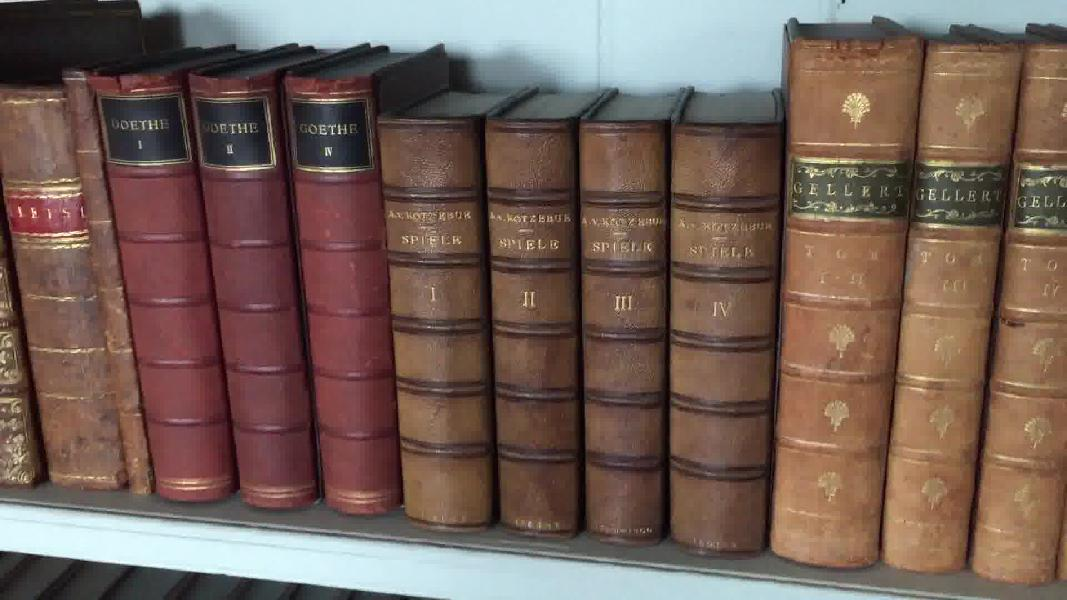Aa6-10: (62, 62, 154, 511)
Aa6-11_13: (93, 66, 405, 527)
Aa6-14_17: (371, 104, 789, 557)
Aa6-9: (5, 81, 125, 489)
